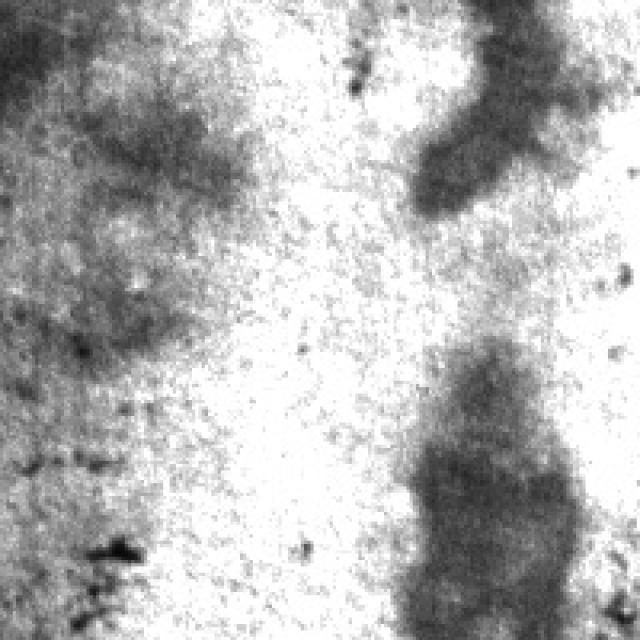patches: (403, 329, 589, 636), (410, 0, 612, 214), (70, 80, 256, 230), (70, 250, 192, 384), (10, 0, 134, 112)
